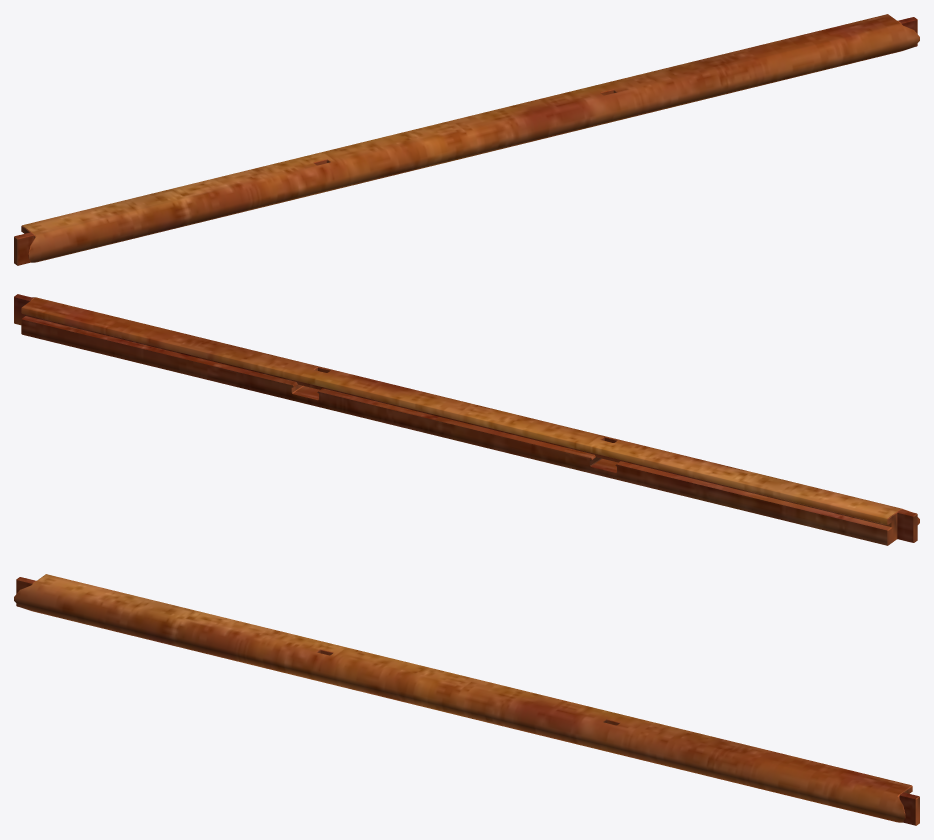
The model's file is SJ_J_dgdb_2_02.FBX.
3 renders of one model, top to bottom at view 1: azimuth 30°, elevation 25°; view 2: azimuth 150°, elevation 25°; view 3: azimuth 330°, elevation 25°, orthographic.
Parts seen in each view (by area): view 1: SJ_J_dgdb_2_02; view 2: SJ_J_dgdb_2_02; view 3: SJ_J_dgdb_2_02.
Part boxes in pixels (x1,y1,x2,y2): SJ_J_dgdb_2_02: (14, 14, 919, 265); SJ_J_dgdb_2_02: (14, 294, 919, 545); SJ_J_dgdb_2_02: (14, 574, 919, 825).
Size of the model in its own units: 103 by 3 by 3.94.
